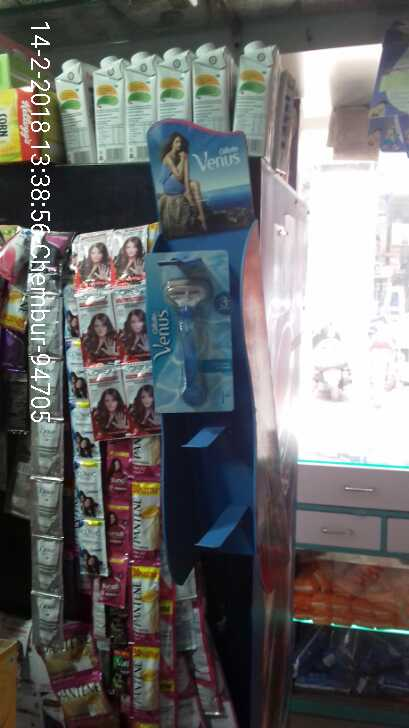venus: (148, 237, 240, 413)
